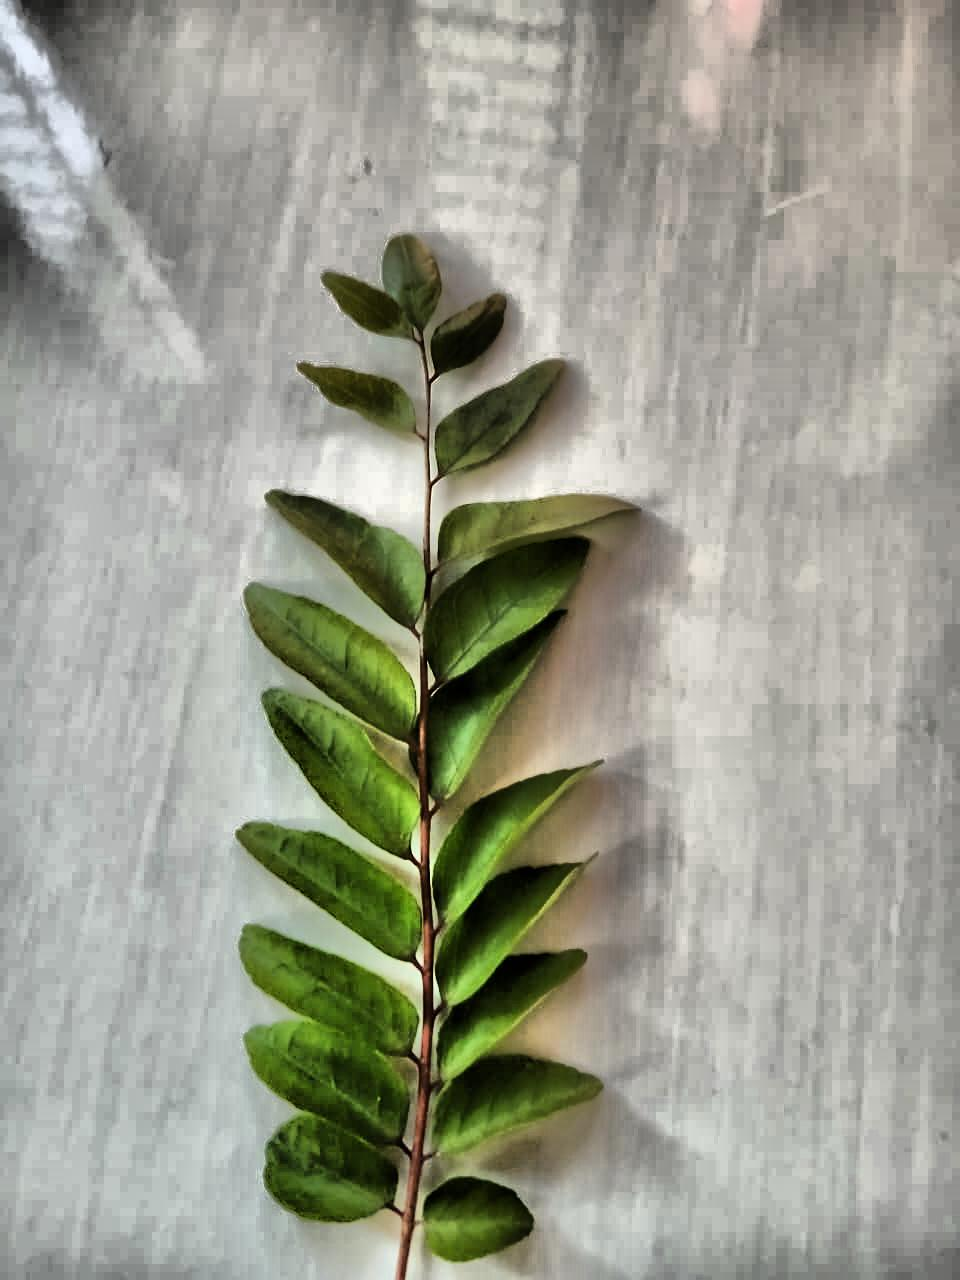daun kari: (237, 235, 610, 1279)
